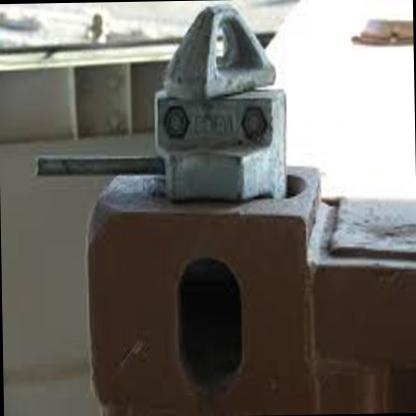CornerCasting: (86, 171, 322, 401)
Twistlock: (143, 0, 294, 200)
